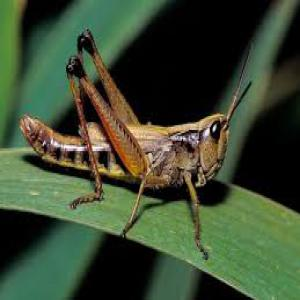locust: (22, 40, 255, 202)
